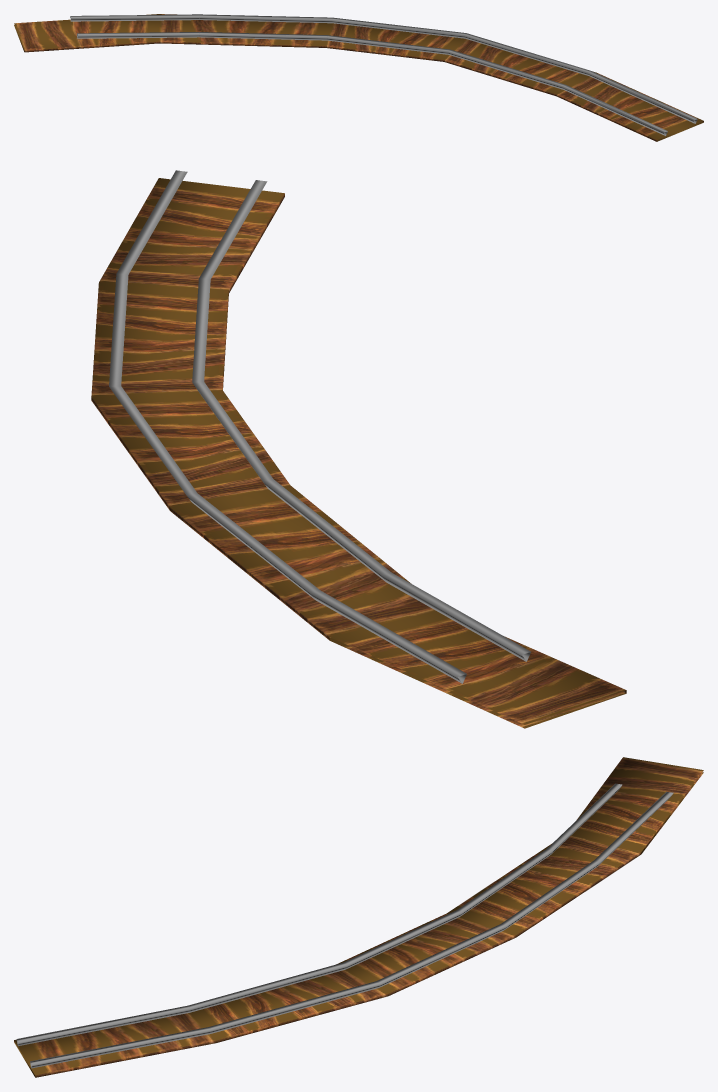
File: SWORDLIGHT20_TRACK1.fbx
The picture shows the model from 3 angles, top to bottom: view 1: azimuth 30°, elevation 25°; view 2: azimuth 150°, elevation 25°; view 3: azimuth 270°, elevation 25°; orthographic projection. The views are drawn at different scales.
Parts seen in each view (by area): view 1: SWORDLIGHT20_TRACK1; view 2: SWORDLIGHT20_TRACK1; view 3: SWORDLIGHT20_TRACK1.
Part boxes in pixels (x1=…): SWORDLIGHT20_TRACK1: x1=14, y1=14, x2=703, y2=141; SWORDLIGHT20_TRACK1: x1=91, y1=170, x2=626, y2=728; SWORDLIGHT20_TRACK1: x1=14, y1=757, x2=703, y2=1077.
Bounding box in the file's own units: 130723 × 6846 × 129650.
Materials: 2 (2 with a texture image).
